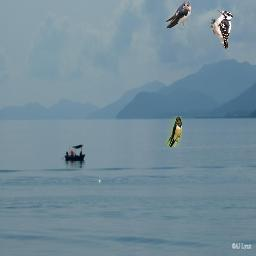Swallow: (165, 0, 191, 28), (165, 116, 182, 147)
Woodpecker: (210, 10, 233, 50)
